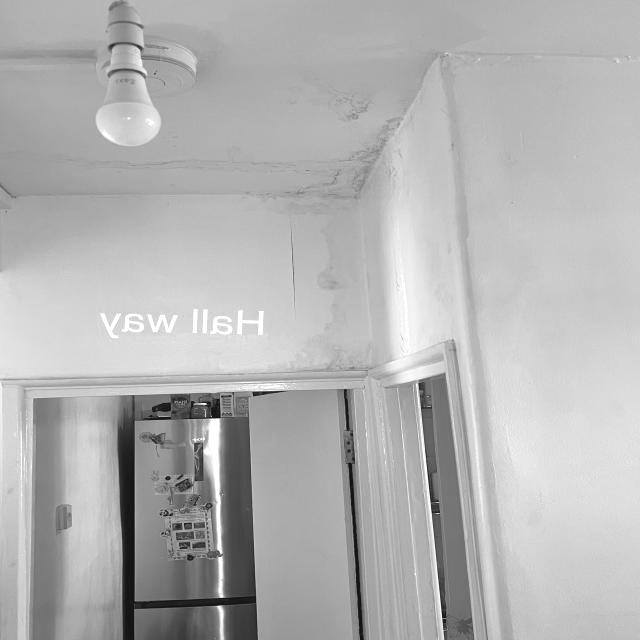stain marks: (242, 190, 386, 380), (256, 8, 498, 105), (0, 146, 333, 203), (462, 165, 538, 368), (388, 189, 466, 341), (334, 108, 414, 195)
